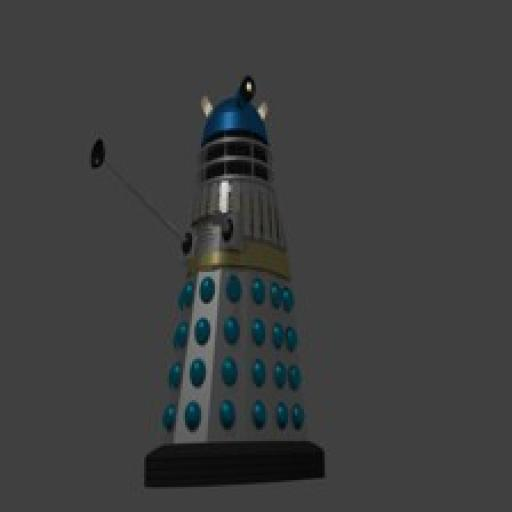dalek: (88, 80, 327, 490)
